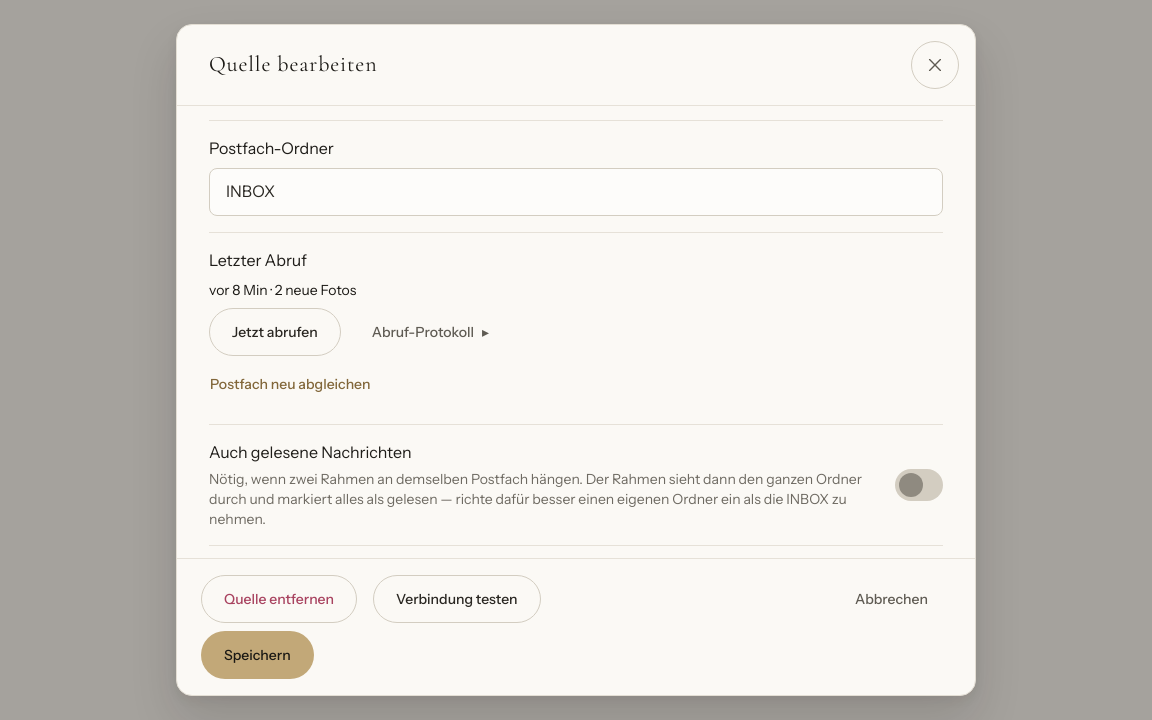
Test case: SourceDialog — Felder je Quellenart › haelt das Protokoll eingeklappt, bis jemand danach fragt
The image size is (1152, 720).
(page scrolled)
Click the button "Abruf-Protokoll ▸" at (430, 332), box 349,308 -> 512,356
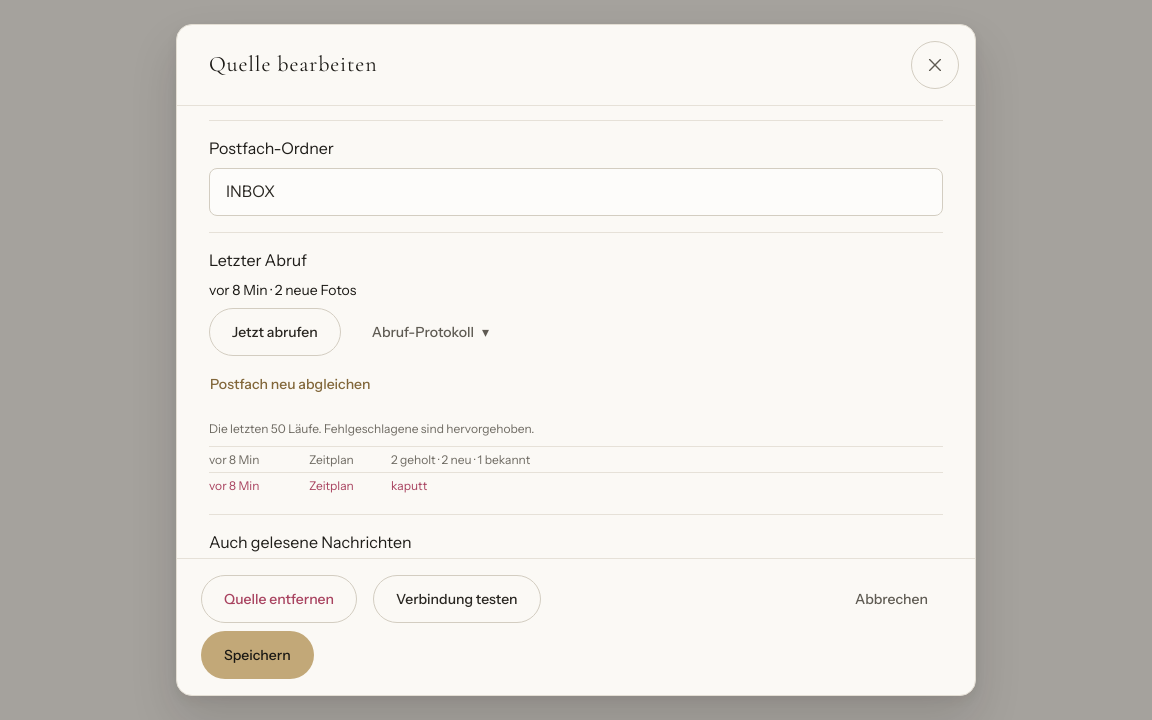
Expected: the number of list items is 2, 209,446 -> 943,472; 209,472 -> 943,498
